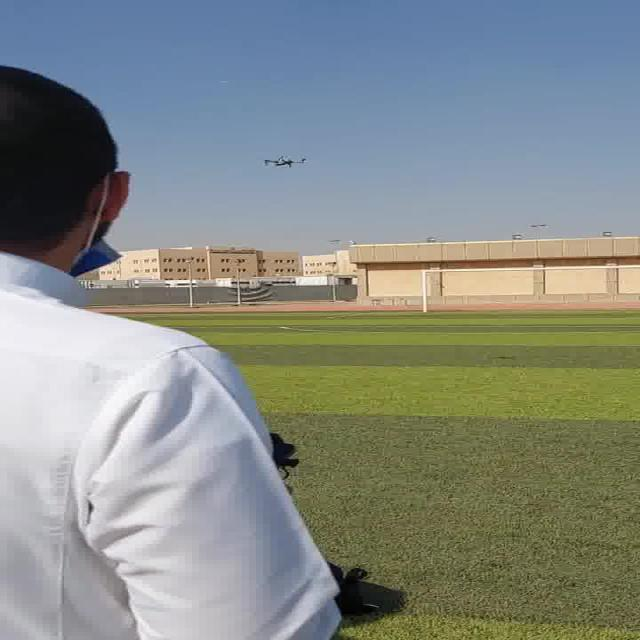drone: (258, 149, 304, 170)
